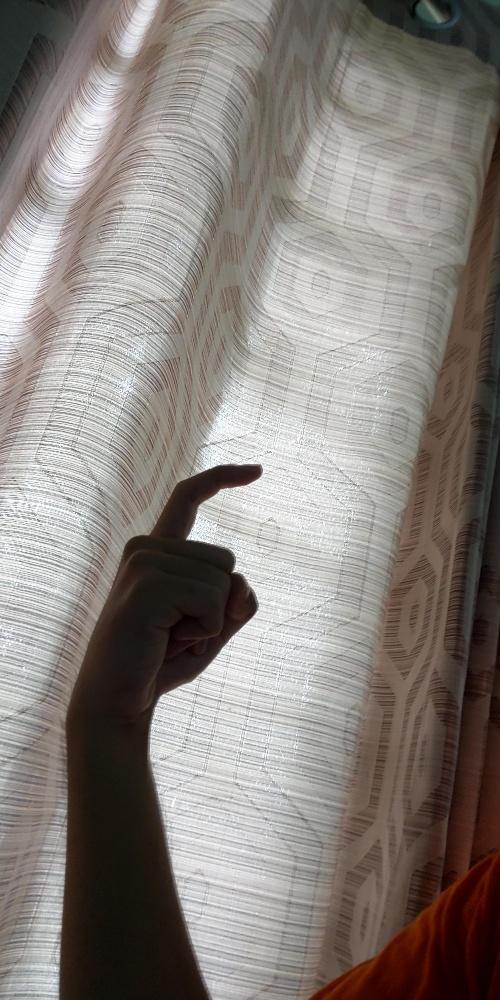x: (76, 459, 263, 706)
